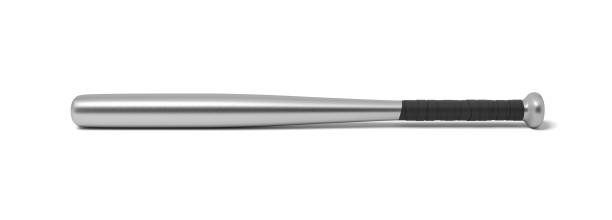bita: (71, 90, 542, 130)
